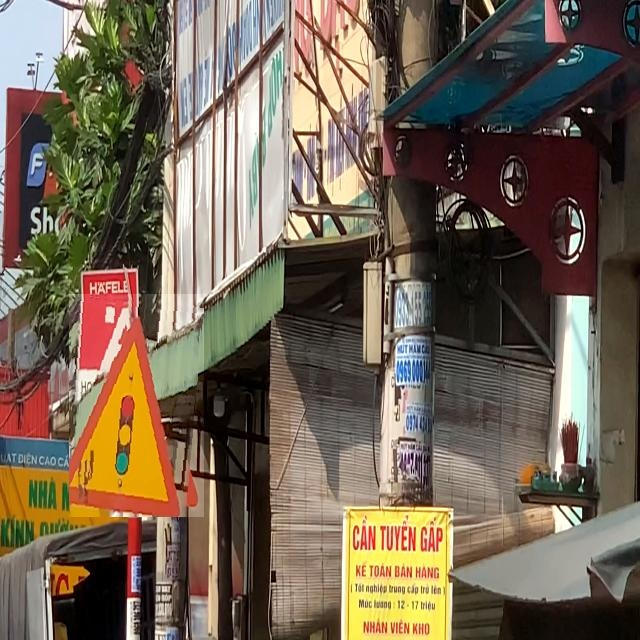bien_nguy_hiem: (69, 294, 204, 517)
